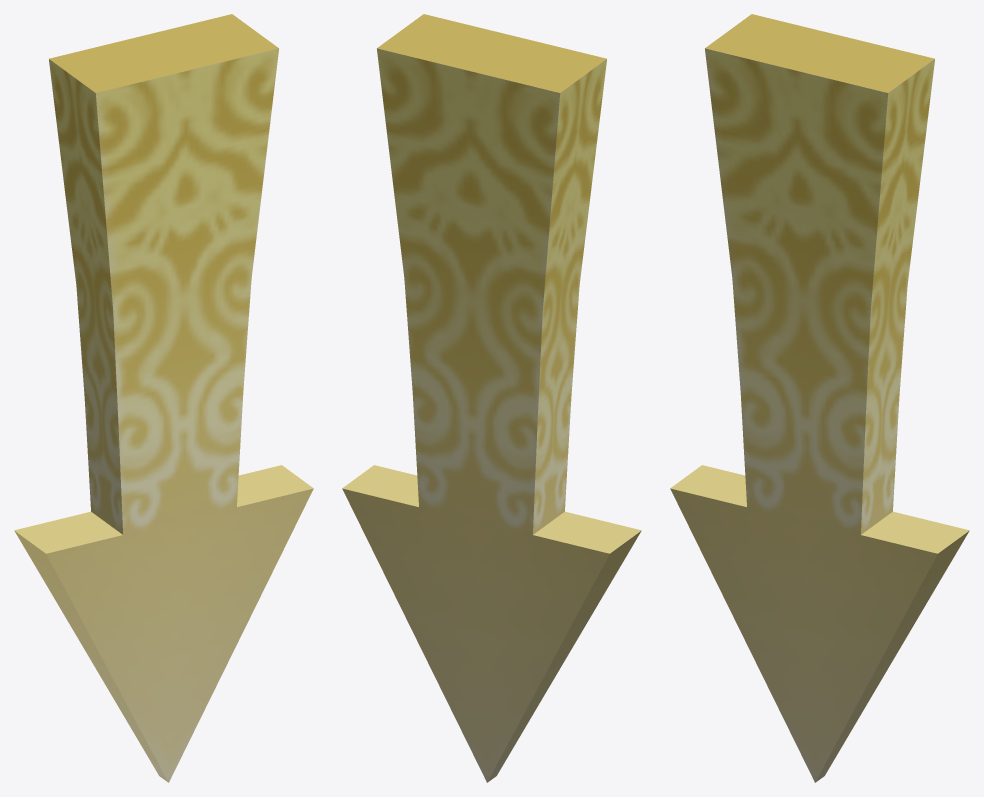
File: GAM_Arrow01.FBX
3 renders of one model, left to right at view 1: azimuth 30°, elevation 25°; view 2: azimuth 150°, elevation 25°; view 3: azimuth 330°, elevation 25°, orthographic.
Parts seen in each view (by area): view 1: GAM_Arrow01; view 2: GAM_Arrow01; view 3: GAM_Arrow01.
Boxes of the visible parts, bbox=[...] form: GAM_Arrow01: bbox=[14, 14, 313, 782]; GAM_Arrow01: bbox=[342, 14, 641, 782]; GAM_Arrow01: bbox=[670, 14, 969, 782].
Size of the model in its own units: 27.5 by 71.23 by 8.36.
Materials: 1 (1 with a texture image).
